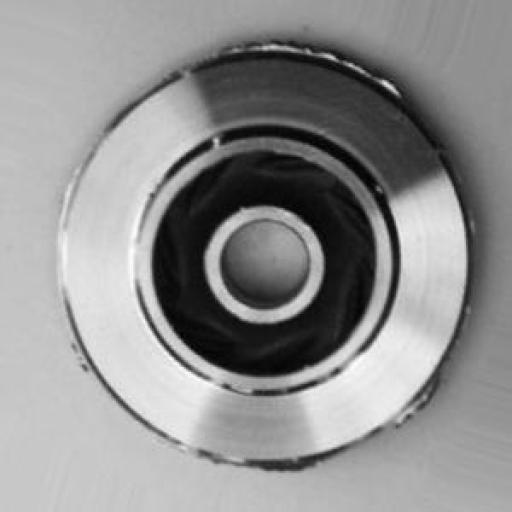defect: (37, 36, 492, 478)
